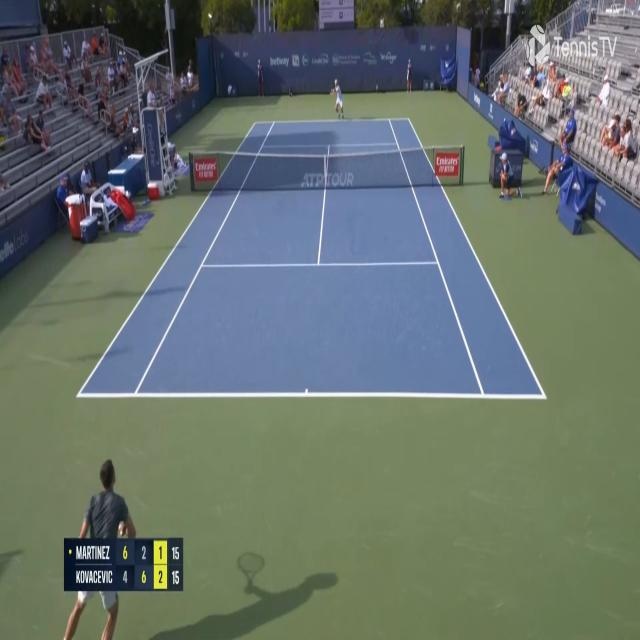tennis-player: (59, 454, 138, 640), (328, 76, 346, 121)
